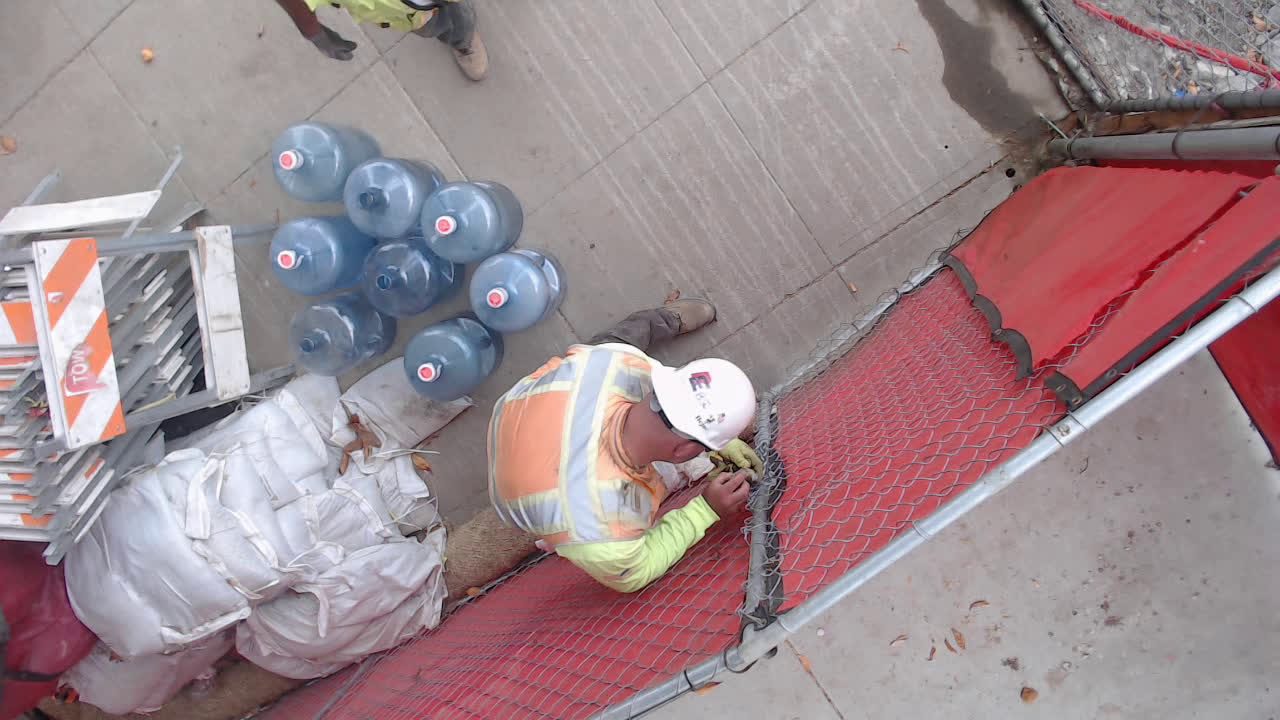hardhat: (644, 355, 761, 455)
safetyvest: (486, 348, 657, 550)
